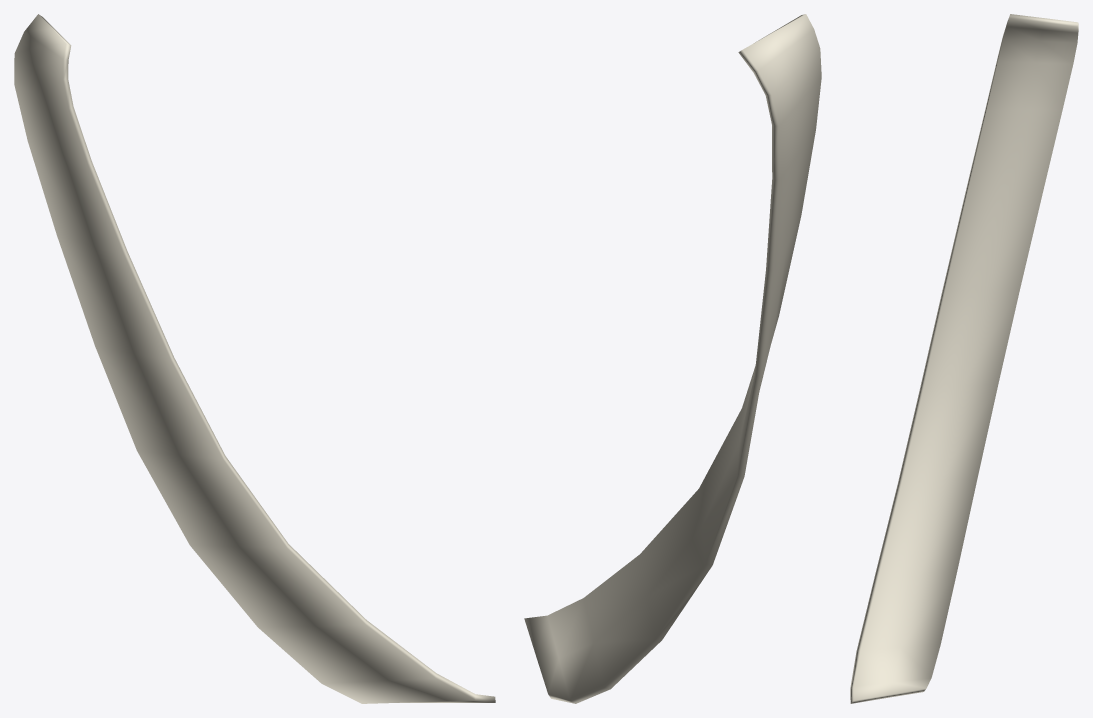
The picture shows the model from 3 angles, left to right: view 1: azimuth 30°, elevation 25°; view 2: azimuth 150°, elevation 25°; view 3: azimuth 270°, elevation 25°; orthographic projection. The views are drawn at different scales.
Parts seen in each view (by area): view 1: ZA_468de45428b1131a; view 2: ZA_468de45428b1131a; view 3: ZA_468de45428b1131a.
Part boxes in pixels (x1,y1,x2,y2): ZA_468de45428b1131a: (14, 14, 495, 703); ZA_468de45428b1131a: (524, 14, 821, 703); ZA_468de45428b1131a: (850, 14, 1078, 703).
Bounding box in the file's own units: 0.0328 × 0.0618 × 0.0225.
